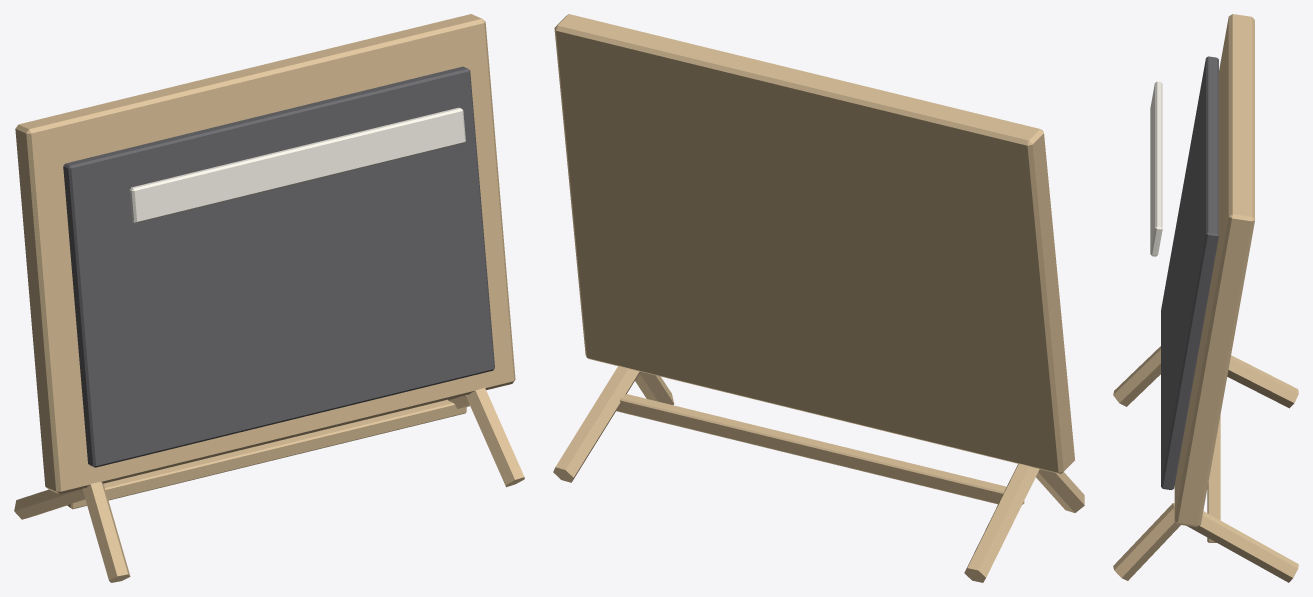
File: indoor-market-hall-and-traders-stall-price-board-85782807.glb
3 renders of one model, left to right at view 1: azimuth 30°, elevation 25°; view 2: azimuth 150°, elevation 25°; view 3: azimuth 270°, elevation 25°, orthographic. The views are drawn at different scales.
Visible parts, largest first — view 1: stall-price-board; view 2: stall-price-board; view 3: stall-price-board.
Part boxes in pixels (x1,y1,x2,y2): stall-price-board: (14, 14, 524, 582); stall-price-board: (553, 14, 1084, 582); stall-price-board: (1113, 14, 1298, 582).
Size of the model in its own units: 0.72 by 0.6277 by 0.2786.
